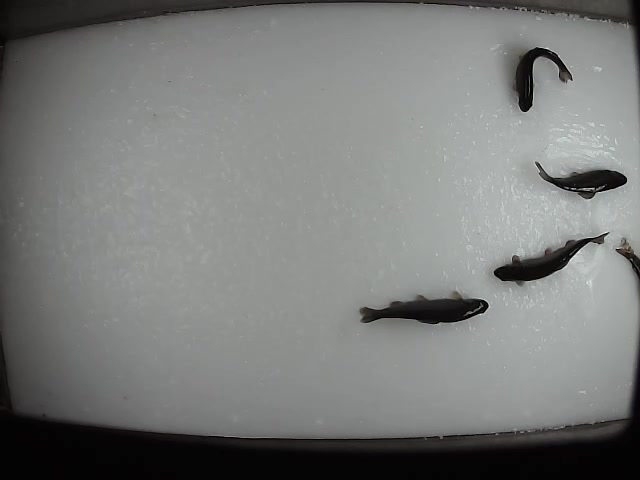Fish: (494, 232, 611, 287), (359, 290, 489, 325), (515, 47, 573, 112), (535, 161, 627, 199)
